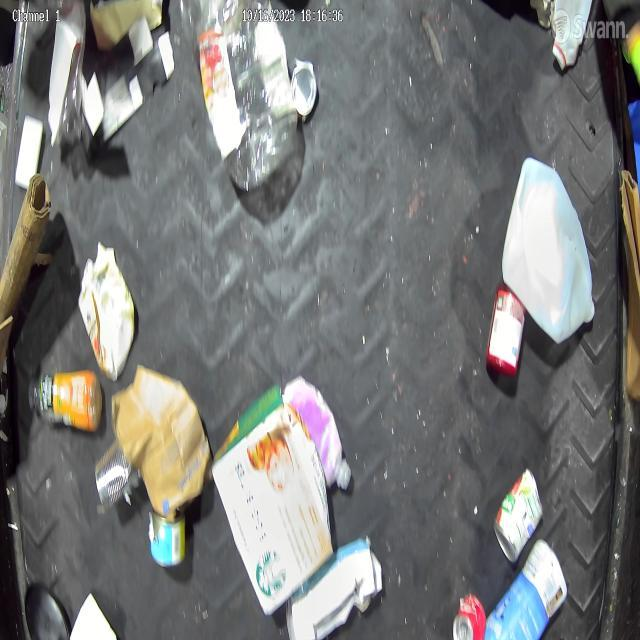can: (492, 468, 542, 562), (94, 446, 137, 508), (149, 512, 186, 566), (292, 59, 320, 118), (452, 592, 486, 640)
plastic_bottle: (199, 0, 298, 190)
